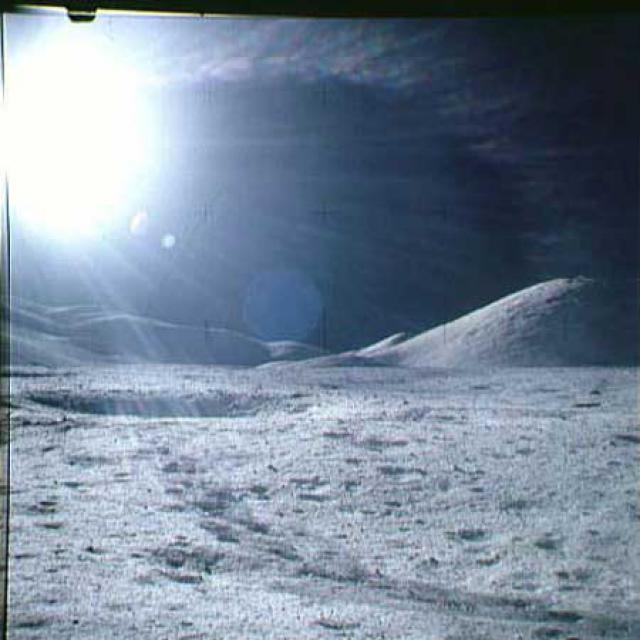crater: (37, 381, 302, 422)
